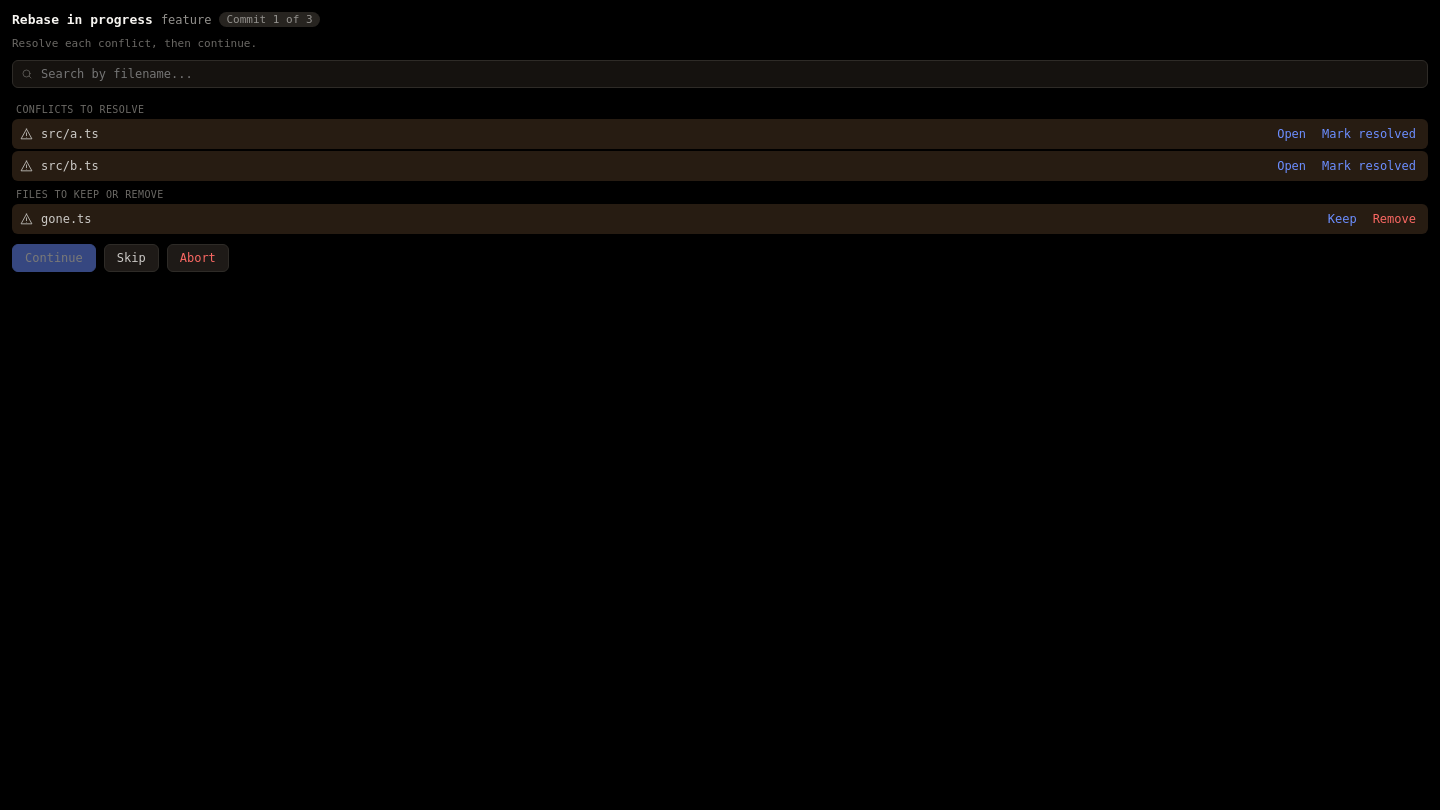
Scenario: MergeRebaseView › working through the conflicts › warns before staging a file that still holds conflict markers
Click the button with class "mr-link" in the row of "src/a.ts".
click(1369, 134)  # box x1=1318 y1=125 x2=1420 y2=143
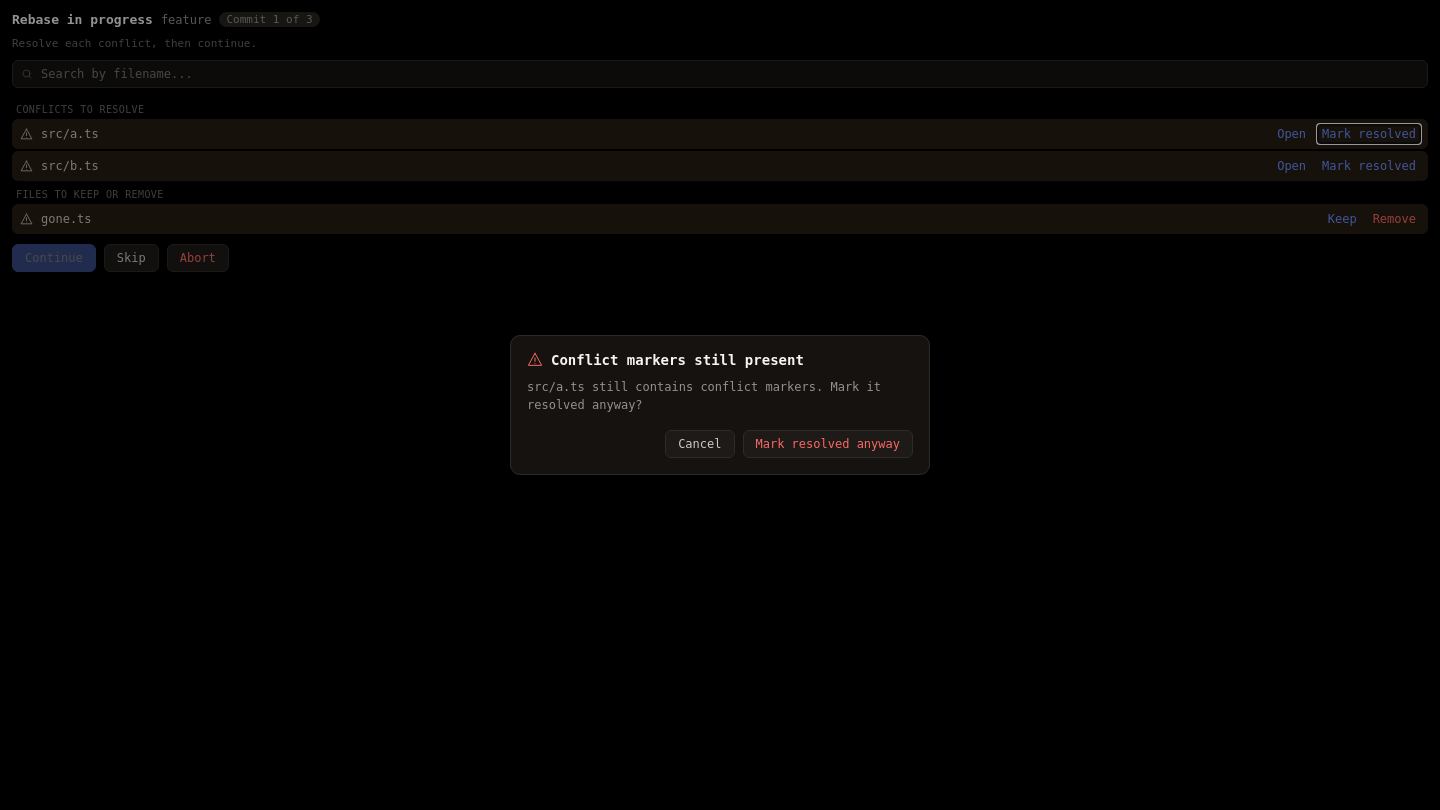
Check: the element with class "mr-modal" is shown, box x1=510 y1=335 x2=930 y2=475
